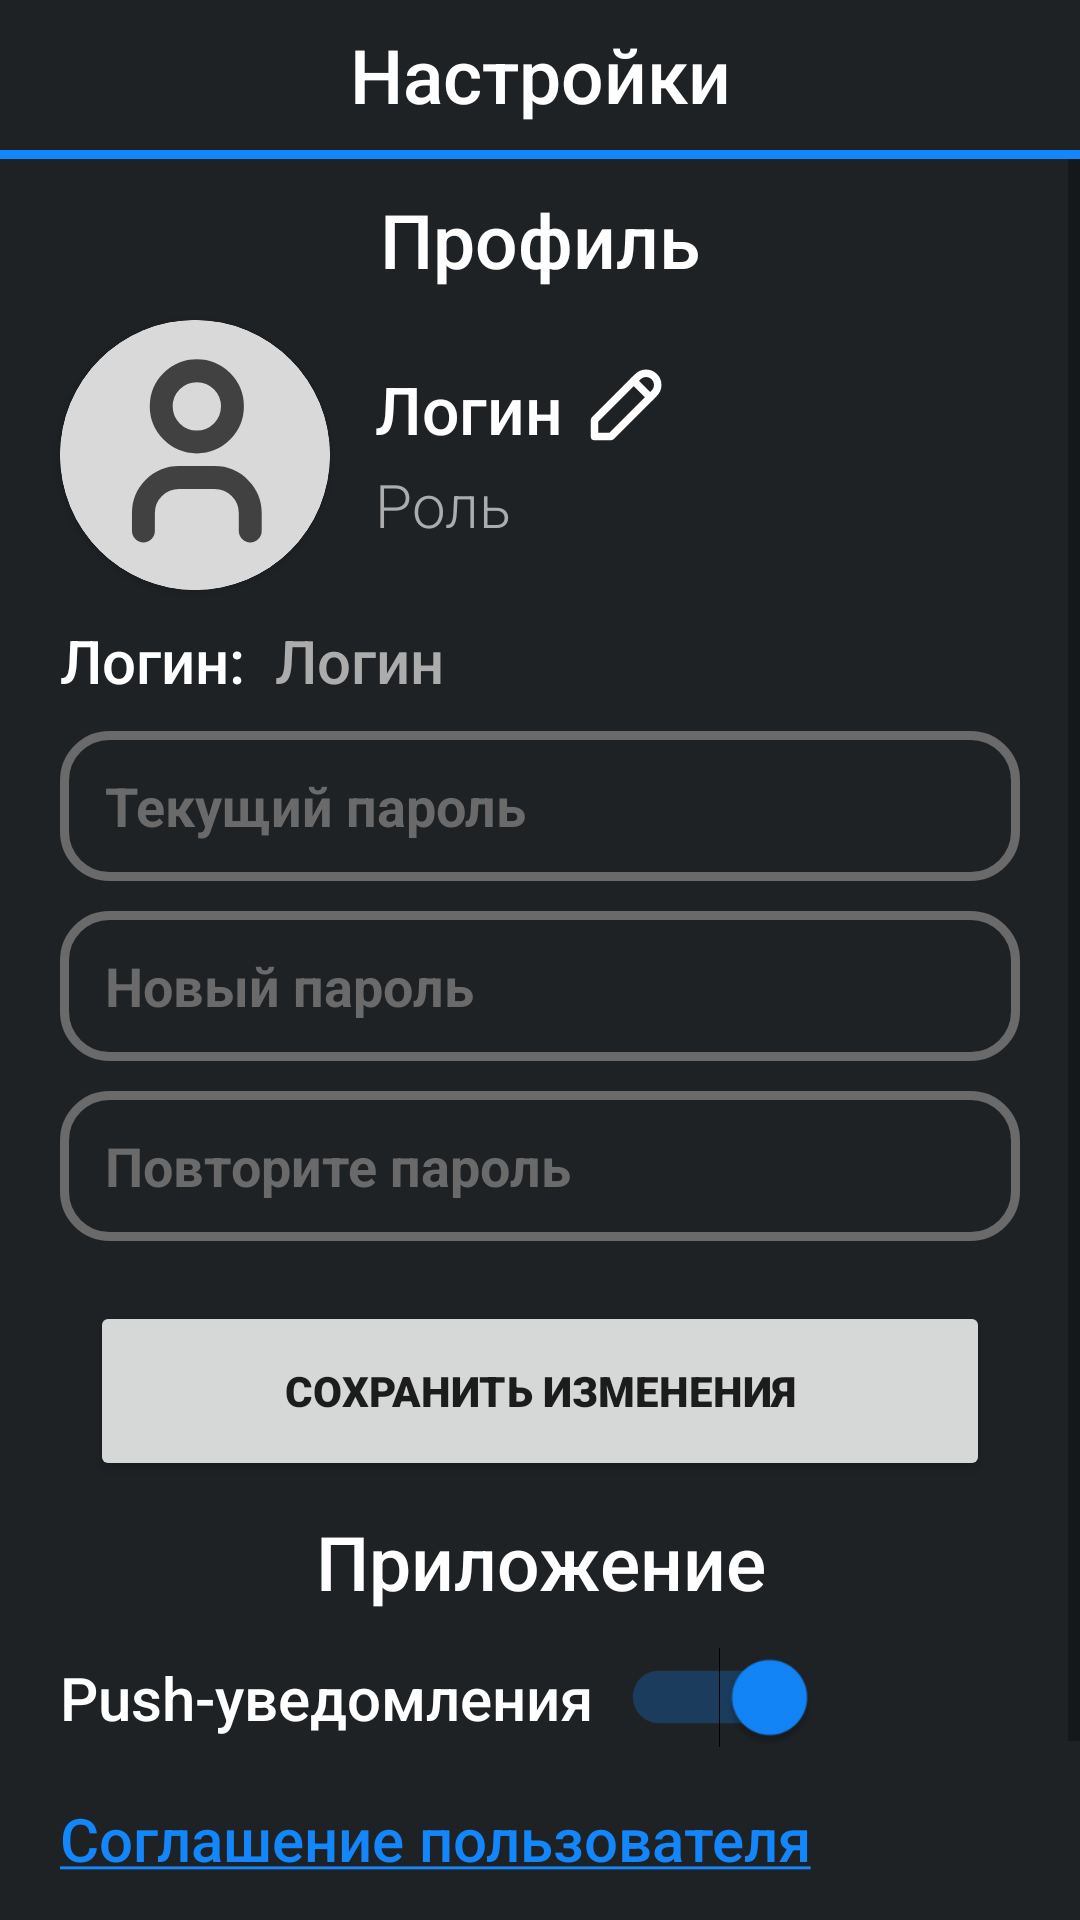

Where to tap for icons on this 1080*1920 app screen, as point (x, y):
edit: point (626, 405)
profile empty: point (195, 455)
